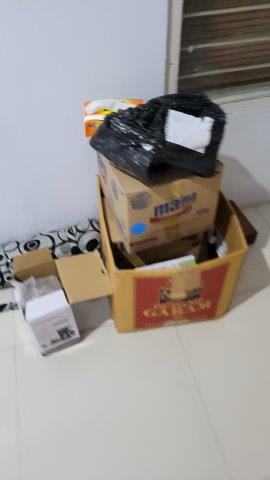kardus: (95, 152, 248, 331), (9, 245, 104, 353)
kertas: (164, 110, 213, 155)
